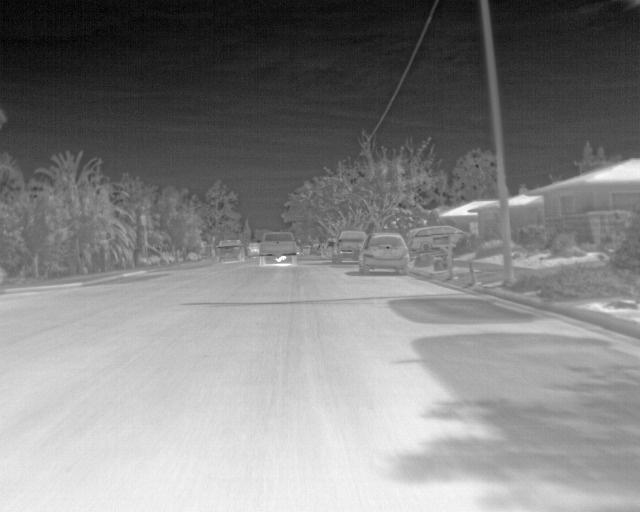car: (360, 234, 409, 276), (409, 224, 467, 258), (259, 233, 298, 263), (334, 230, 364, 262), (217, 238, 245, 262), (322, 239, 338, 258), (246, 240, 261, 255), (310, 242, 325, 255)
